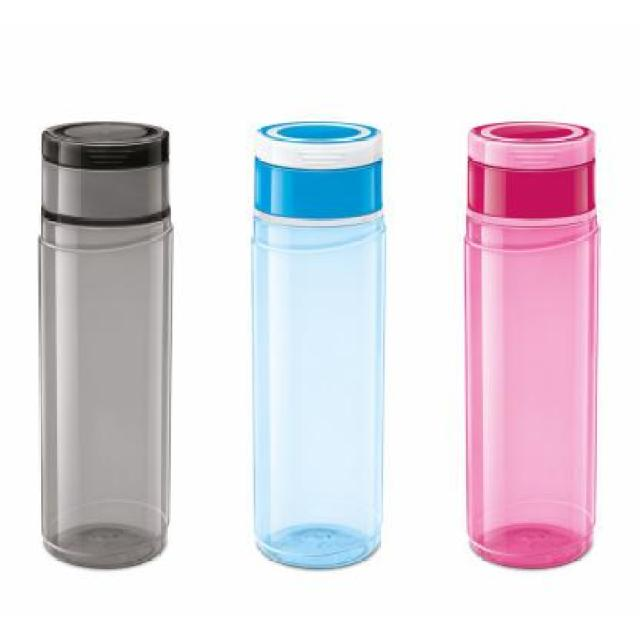Drinking: (233, 107, 404, 576), (456, 103, 622, 580), (25, 109, 186, 576)
